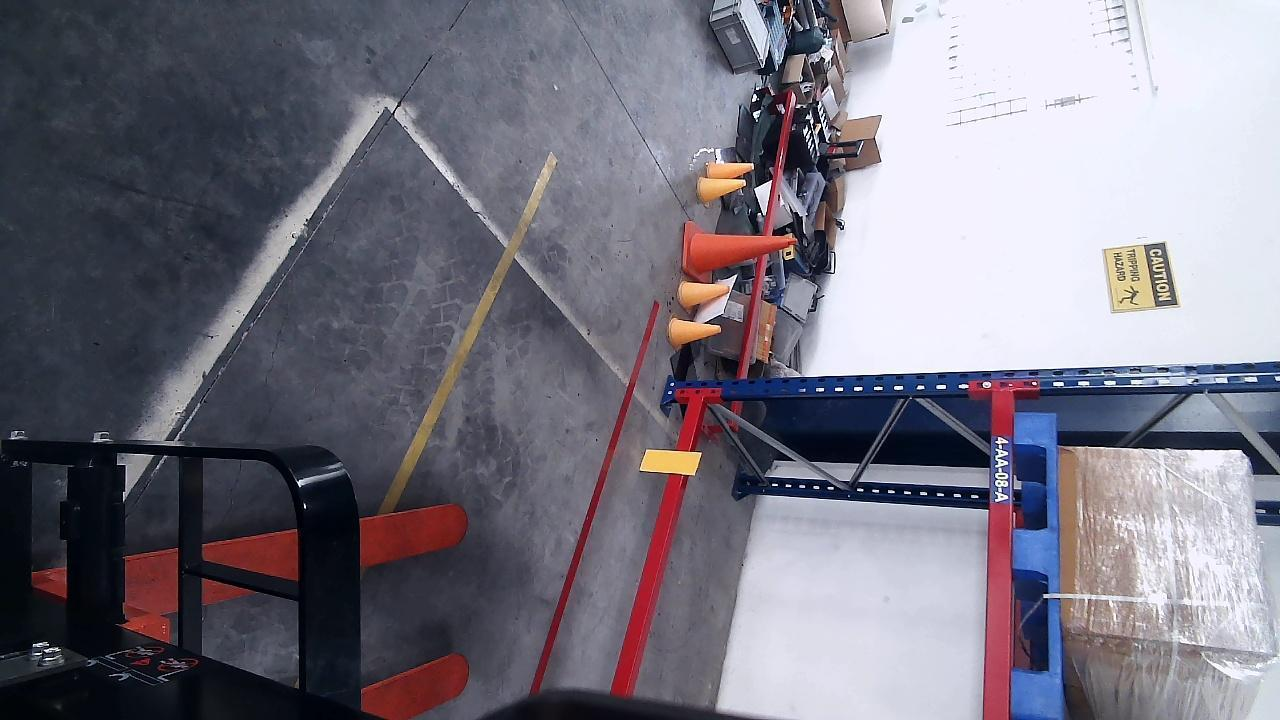red_line: (525, 297, 665, 699)
yellow_line: (380, 151, 558, 513)
